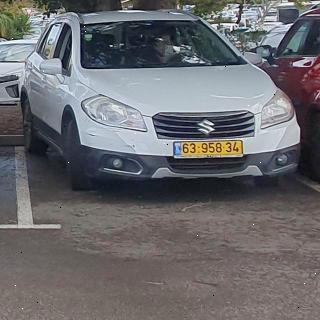LicensePlate: (181, 141, 241, 155)
